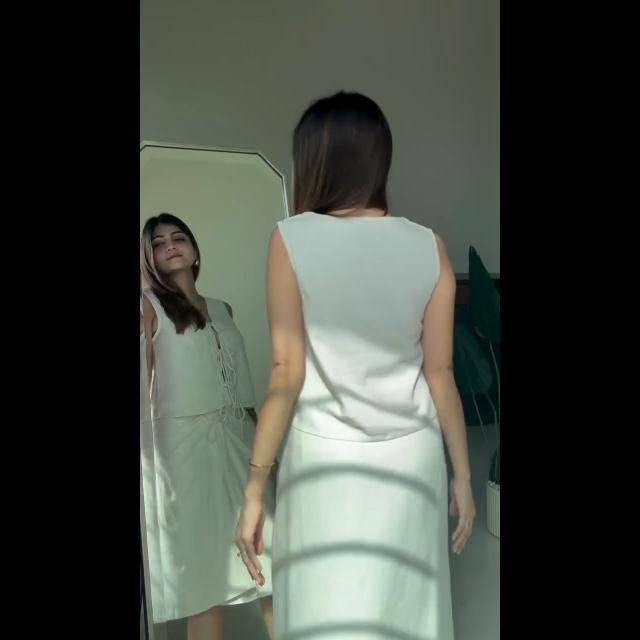dress: (276, 214, 448, 640), (148, 293, 266, 602)
ear ring: (195, 256, 199, 266)
